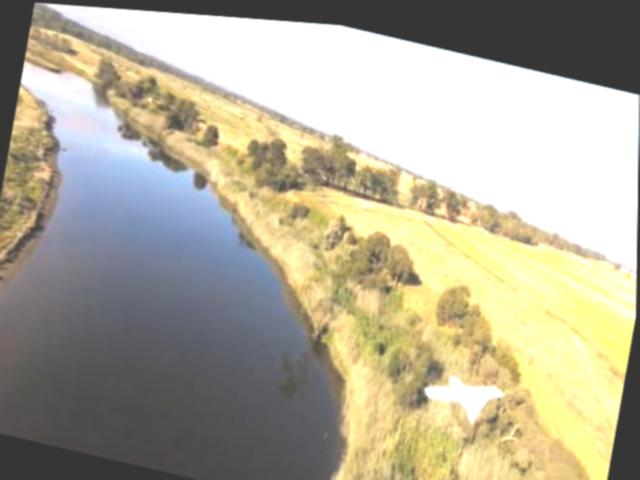uav: (421, 359, 507, 423)
